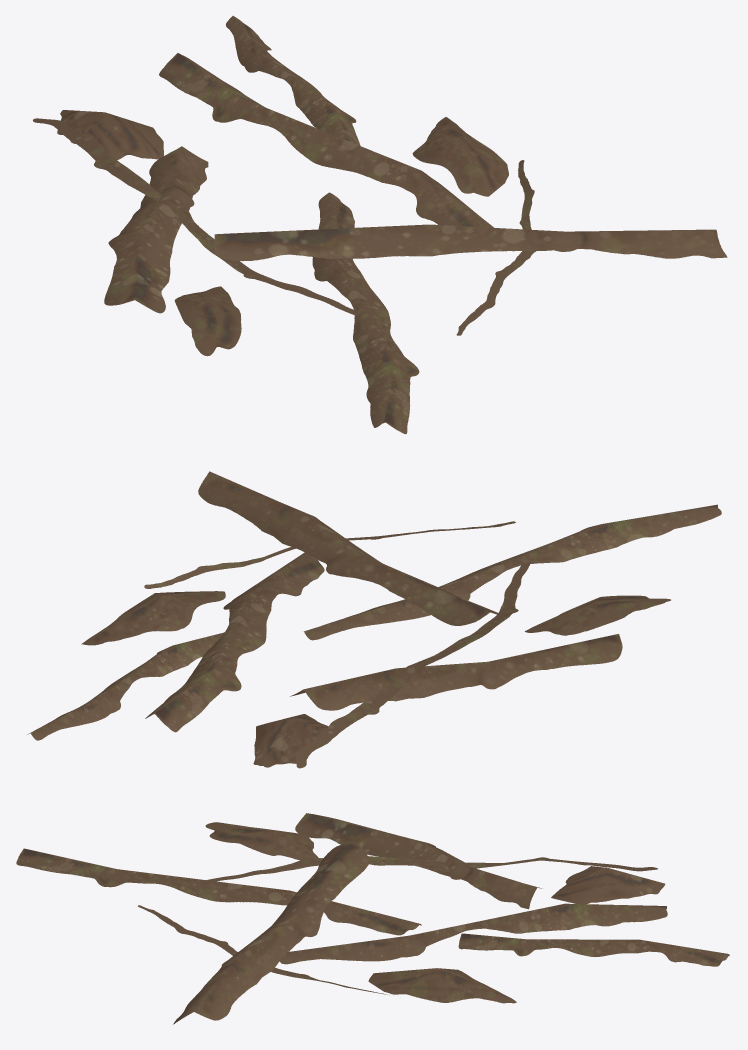
The model's file is MSH_fwOF_WoodDebris_01.fbx.
3 renders of one model, top to bottom at view 1: azimuth 30°, elevation 25°; view 2: azimuth 150°, elevation 25°; view 3: azimuth 270°, elevation 25°, orthographic. The views are drawn at different scales.
Parts seen in each view (by area): view 1: MSH_fwOF_WoodDebris_01; view 2: MSH_fwOF_WoodDebris_01; view 3: MSH_fwOF_WoodDebris_01.
Part boxes in pixels (bbox=[...]): MSH_fwOF_WoodDebris_01: bbox=[33, 16, 727, 434]; MSH_fwOF_WoodDebris_01: bbox=[27, 471, 721, 768]; MSH_fwOF_WoodDebris_01: bbox=[16, 813, 729, 1024].
Size of the model in its own units: 0.5873 by 0.0432 by 0.8155.
